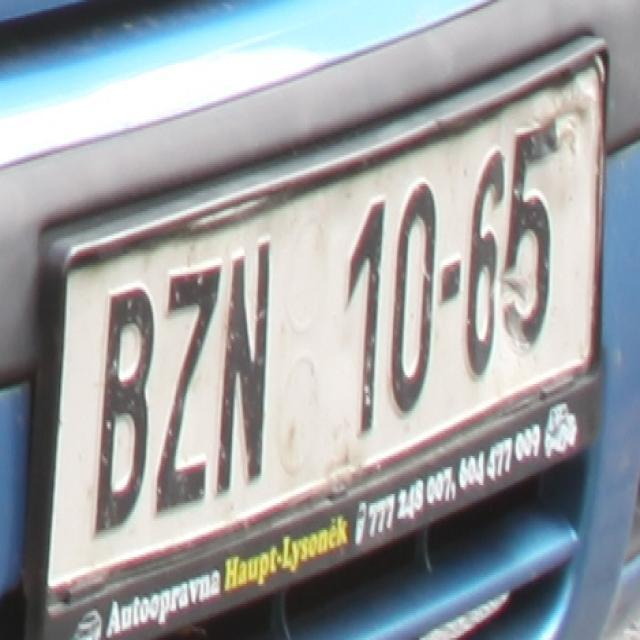0: (390, 178, 438, 414)
1: (349, 198, 384, 434)
5: (504, 118, 556, 350)
6: (466, 144, 504, 378)
B: (91, 283, 149, 537)
N: (218, 247, 268, 490)
Z: (156, 263, 214, 503)
